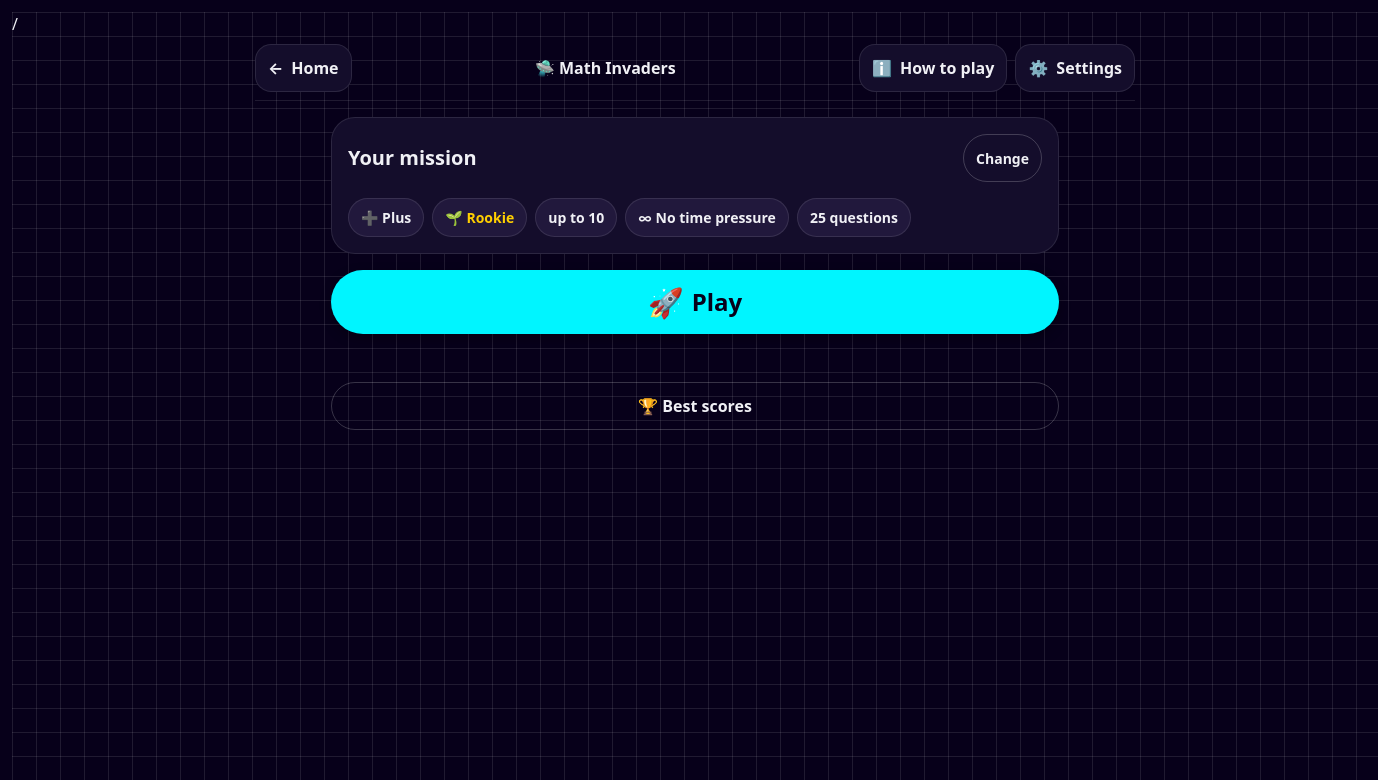
Test: ArcadePage › starts the mission one level down, so the hub is not in the way of playing again
Step 1. Click the button "🚀 Play" → (695, 302), box x1=331 y1=270 x2=1059 y2=334
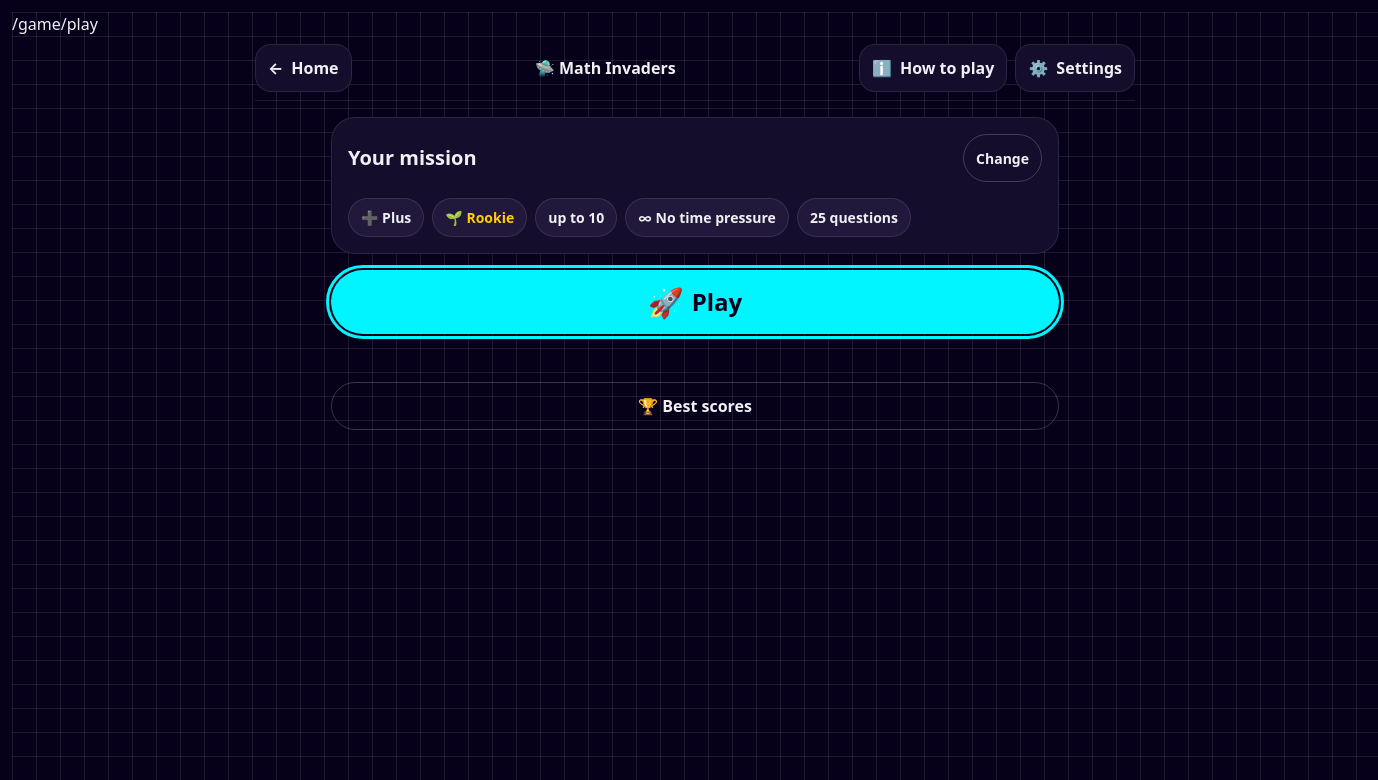
Check: the text with test id "test-location" reads "/game/play", box x1=12 y1=13 x2=98 y2=35
